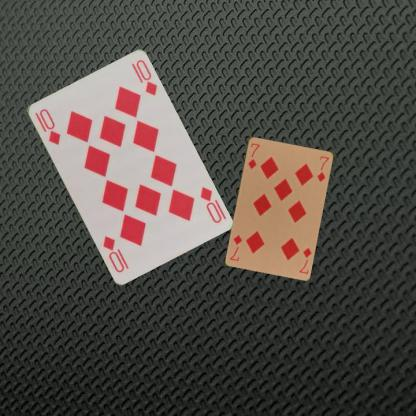10d: (32, 106, 62, 146), (197, 184, 223, 224)
7d: (296, 244, 312, 275), (245, 140, 261, 170)
